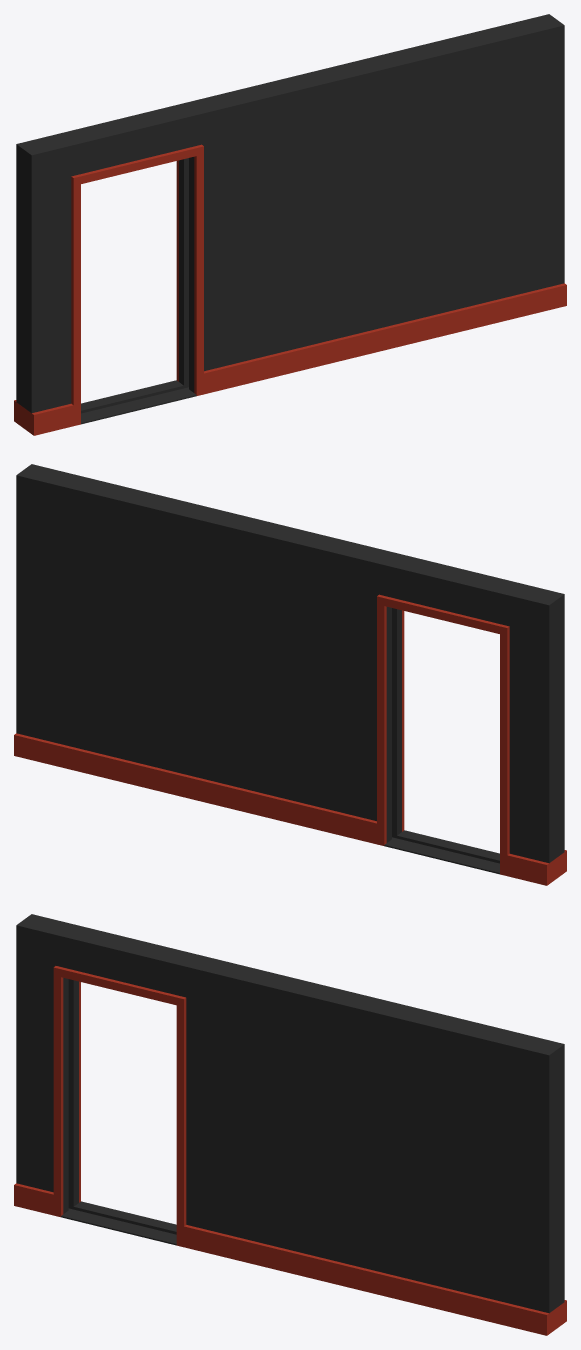
Rendered from ApartmentDoorway_SlidingDoor.fbx.
3 views of the same model, one above another, from view 1: azimuth 30°, elevation 25°; view 2: azimuth 150°, elevation 25°; view 3: azimuth 330°, elevation 25° (orthographic).
Visible parts, largest first — view 1: SlidingDoorWallSeg; view 2: SlidingDoorWallSeg; view 3: SlidingDoorWallSeg.
Part boxes in pixels (bbox=[...]): SlidingDoorWallSeg: bbox=[14, 14, 566, 435]; SlidingDoorWallSeg: bbox=[14, 464, 566, 885]; SlidingDoorWallSeg: bbox=[14, 914, 566, 1335].
Bounding box in the file's own units: 400 × 201 × 26.
